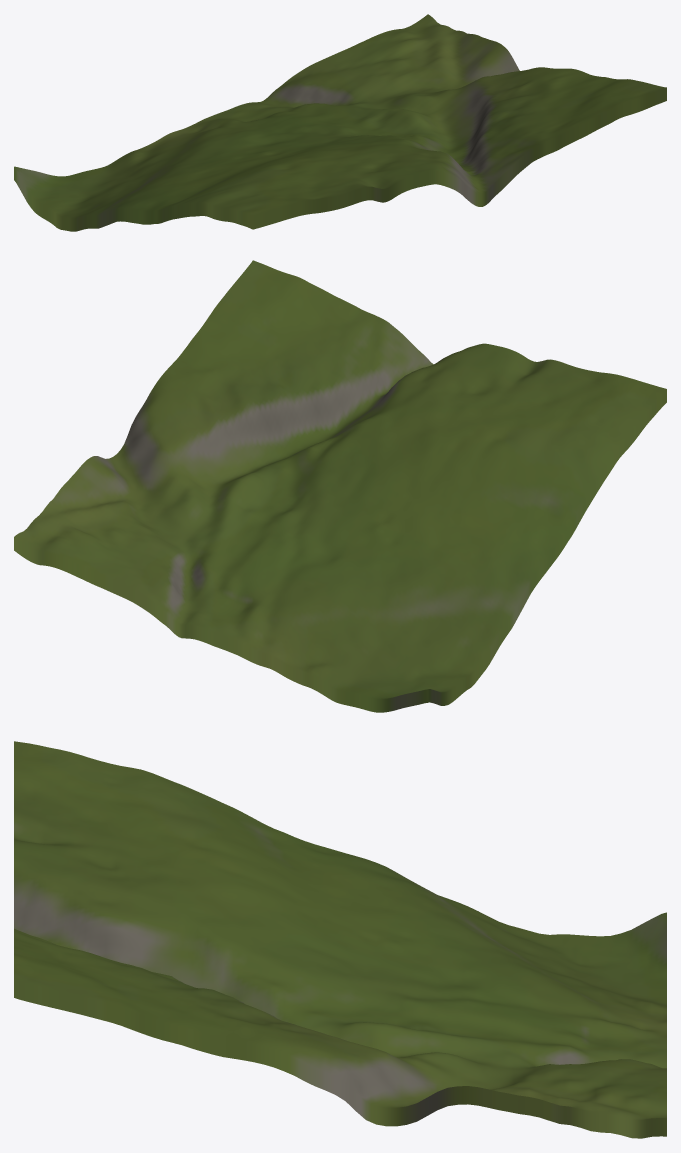
File: terrain_4_-4.glb
3 renders of one model, top to bottom at view 1: azimuth 30°, elevation 25°; view 2: azimuth 150°, elevation 25°; view 3: azimuth 270°, elevation 25°, orthographic. The views are drawn at different scales.
Parts seen in each view (by area): view 1: terrain_4_-4; view 2: terrain_4_-4; view 3: terrain_4_-4.
Boxes of the visible parts, x1,y1,x2,y2 form: terrain_4_-4: [14, 14, 666, 231]; terrain_4_-4: [14, 260, 666, 712]; terrain_4_-4: [14, 741, 666, 1138].
Size of the model in its own units: 256 by 112 by 256.
